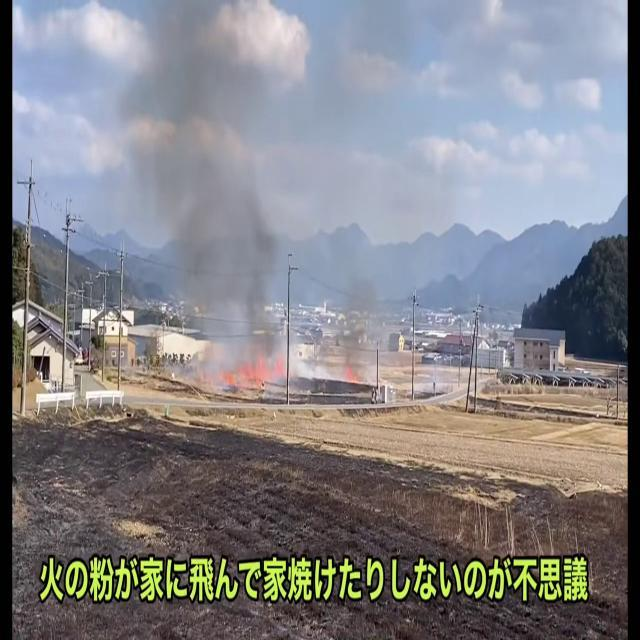Fire: (216, 345, 288, 397)
Smoke: (132, 4, 286, 379), (301, 180, 416, 384)
